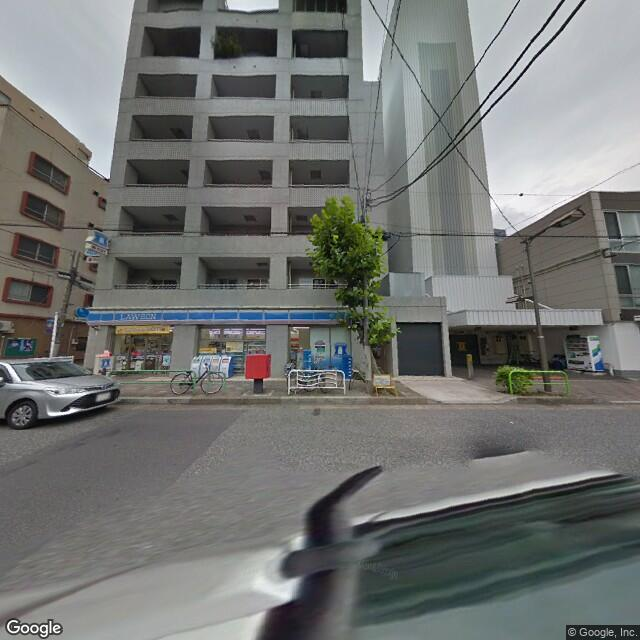lawson: (81, 308, 354, 330), (94, 224, 109, 252)
